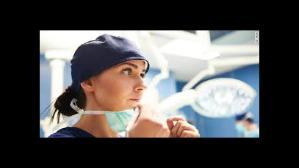mask_weared_incorrect: (106, 64, 153, 124)
with_mask: (235, 118, 248, 133)
